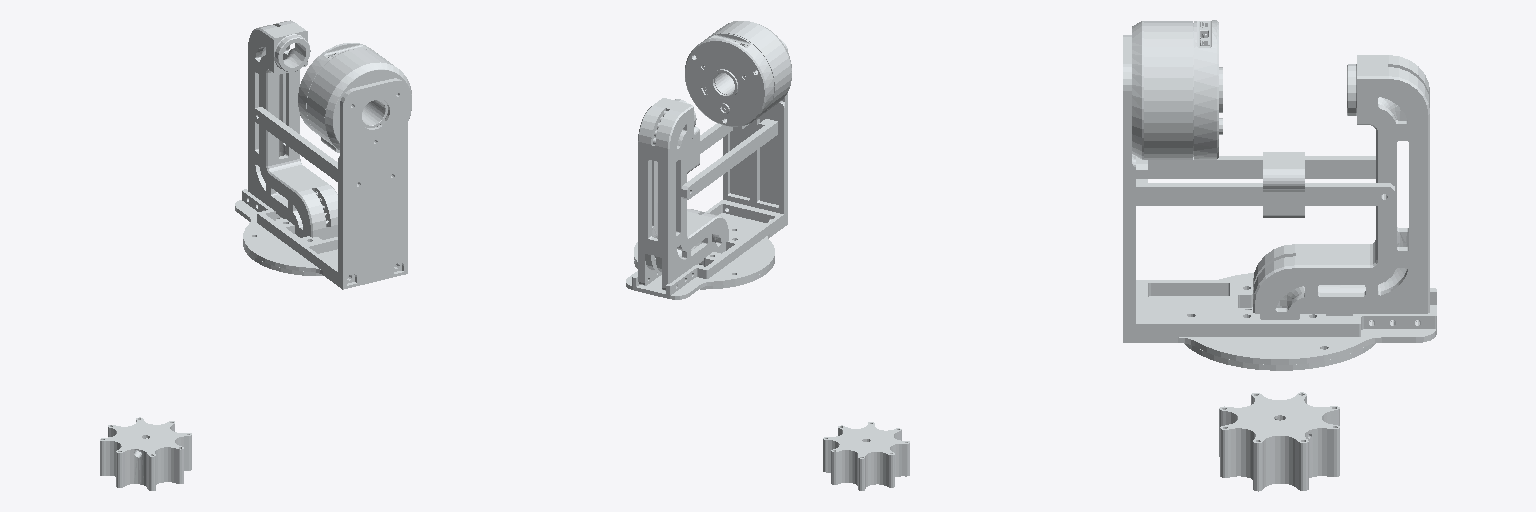
robot.urdf — robot_urdf_infantry_swerve:
<?xml version="1.0" encoding="utf-8"?>
<!-- This URDF was automatically created by SolidWorks to URDF Exporter! Originally created by [author] ([email redacted]) 
     Commit Version: 1.6.0-1-g15f4949  Build Version: 1.6.7594.29634
     For more information, please see http://wiki.ros.org/sw_urdf_exporter -->
<robot
  name="robot_urdf_infantry_swerve">
  <link
    name="base_link">
    <inertial>
      <origin
        xyz="-0.0169183236639579 -0.000182915242454045 0.0690609306536668"
        rpy="0 0 0" />
      <mass
        value="10.1026393048158" />
      <inertia
        ixx="0.0180952613054106"
        ixy="1.08428457198038E-05"
        ixz="-0.000129043293291808"
        iyy="0.0189260916730513"
        iyz="-4.14000287710874E-06"
        izz="0.0306916725800459" />
    </inertial>
    <visual>
      <origin
        xyz="0 0 0"
        rpy="0 0 0" />
      <geometry>
        <mesh
          filename="package://robot_urdf_infantry_swerve/meshes/base_link.STL" />
      </geometry>
      <material
        name="">
        <color
          rgba="0.898039215686275 0.917647058823529 0.929411764705882 1" />
      </material>
    </visual>
    <collision>
      <origin
        xyz="0 0 0"
        rpy="0 0 0" />
      <geometry>
        <mesh
          filename="package://robot_urdf_infantry_swerve/meshes/base_link.STL" />
      </geometry>
    </collision>
  </link>
  <link
    name="left_forward_wheel_link">
    <inertial>
      <origin
        xyz="-5.60582053621972E-05 0.0195312422532899 -2.66231869774855E-05"
        rpy="0 0 0" />
      <mass
        value="0.20196610038796" />
      <inertia
        ixx="9.03609954075999E-05"
        ixy="-5.05842383427067E-09"
        ixz="2.91601273838805E-07"
        iyy="0.000159661557919175"
        iyz="7.41953648211965E-09"
        izz="9.03046734261075E-05" />
    </inertial>
    <visual>
      <origin
        xyz="0 0 0"
        rpy="0 0 0" />
      <geometry>
        <mesh
          filename="package://robot_urdf_infantry_swerve/meshes/left_forward_wheel_link.STL" />
      </geometry>
      <material
        name="">
        <color
          rgba="0.792156862745098 0.819607843137255 0.933333333333333 1" />
      </material>
    </visual>
    <collision>
      <origin
        xyz="0 0 0"
        rpy="0 0 0" />
      <geometry>
        <mesh
          filename="package://robot_urdf_infantry_swerve/meshes/left_forward_wheel_link.STL" />
      </geometry>
    </collision>
  </link>
  <joint
    name="base_to_left_forward_wheel_link"
    type="continuous">
    <origin
      xyz="0.1867 0.1991 0.0048"
      rpy="0 0 0" />
    <parent
      link="base_link" />
    <child
      link="left_forward_wheel_link" />
    <axis
      xyz="0 -0.999999999721235 -2.34360814689745E-05" />
    <limit
      effort="380"
      velocity="9999" />
    <safety_controller
      soft_upper="0"
      soft_lower="0"
      k_position="9999"
      k_velocity="9999" />
  </joint>
  <link
    name="right_forward_wheel_link">
    <inertial>
      <origin
        xyz="4.79525151471094E-05 -0.0195312421057282 -3.93945822344966E-05"
        rpy="0 0 0" />
      <mass
        value="0.201966103588379" />
      <inertia
        ixx="9.022074642581E-05"
        ixy="-6.70279305444002E-09"
        ixz="-2.70679291868689E-07"
        iyy="0.000159661390017855"
        iyz="-5.96387817570014E-09"
        izz="9.0444745105792E-05" />
    </inertial>
    <visual>
      <origin
        xyz="0 0 0"
        rpy="0 0 0" />
      <geometry>
        <mesh
          filename="package://robot_urdf_infantry_swerve/meshes/right_forward_wheel_link.STL" />
      </geometry>
      <material
        name="">
        <color
          rgba="0.792156862745098 0.819607843137255 0.933333333333333 1" />
      </material>
    </visual>
    <collision>
      <origin
        xyz="0 0 0"
        rpy="0 0 0" />
      <geometry>
        <mesh
          filename="package://robot_urdf_infantry_swerve/meshes/right_forward_wheel_link.STL" />
      </geometry>
    </collision>
  </link>
  <joint
    name="base_to_right_forward_wheel_link"
    type="continuous">
    <origin
      xyz="0.1867 -0.1991 0.0048"
      rpy="0 0 0" />
    <parent
      link="base_link" />
    <child
      link="right_forward_wheel_link" />
    <axis
      xyz="0 0.999999999721235 -2.34360814692104E-05" />
    <limit
      effort="380"
      velocity="9999" />
    <safety_controller
      soft_upper="0"
      soft_lower="0"
      k_position="9999"
      k_velocity="9999" />
  </joint>
  <link
    name="left_backward_wheel_link">
    <inertial>
      <origin
        xyz="-4.7951E-05 0.019106 -3.9404E-05"
        rpy="0 0 0" />
      <mass
        value="0.20197" />
      <inertia
        ixx="9.0221E-05"
        ixy="-6.703E-09"
        ixz="2.7068E-07"
        iyy="0.00015966"
        iyz="5.9639E-09"
        izz="9.0445E-05" />
    </inertial>
    <visual>
      <origin
        xyz="0 0 0"
        rpy="0 0 0" />
      <geometry>
        <mesh
          filename="package://robot_urdf_infantry_swerve/meshes/left_backward_wheel_link.STL" />
      </geometry>
      <material
        name="">
        <color
          rgba="0.79216 0.81961 0.93333 1" />
      </material>
    </visual>
    <collision>
      <origin
        xyz="0 0 0"
        rpy="0 0 0" />
      <geometry>
        <mesh
          filename="package://robot_urdf_infantry_swerve/meshes/left_backward_wheel_link.STL" />
      </geometry>
    </collision>
  </link>
  <joint
    name="base_to_left_backward_wheel_link"
    type="continuous">
    <origin
      xyz="-0.1867 0.1991 0.0048"
      rpy="0 0 0" />
    <parent
      link="base_link" />
    <child
      link="left_backward_wheel_link" />
    <axis
      xyz="0 -1 -2.3436E-05" />
    <limit
      effort="380"
      velocity="9999" />
    <safety_controller
      soft_upper="0"
      soft_lower="0"
      k_position="9999"
      k_velocity="9999" />
  </joint>
  <link
    name="right_backward_wheel_link">
    <inertial>
      <origin
        xyz="5.6058595093611E-05 -0.0195312420324447 -2.66237671080203E-05"
        rpy="0 0 0" />
      <mass
        value="0.20196609976131" />
      <inertia
        ixx="9.03609966068449E-05"
        ixy="-5.05846293664766E-09"
        ixz="-2.9159803548901E-07"
        iyy="0.000159661557381687"
        iyz="-7.42010115197997E-09"
        izz="9.03046717754091E-05" />
    </inertial>
    <visual>
      <origin
        xyz="0 0 0"
        rpy="0 0 0" />
      <geometry>
        <mesh
          filename="package://robot_urdf_infantry_swerve/meshes/right_backward_wheel_link.STL" />
      </geometry>
      <material
        name="">
        <color
          rgba="0.792156862745098 0.819607843137255 0.933333333333333 1" />
      </material>
    </visual>
    <collision>
      <origin
        xyz="0 0 0"
        rpy="0 0 0" />
      <geometry>
        <mesh
          filename="package://robot_urdf_infantry_swerve/meshes/right_backward_wheel_link.STL" />
      </geometry>
    </collision>
  </link>
  <joint
    name="base_to_right_backward_wheel_link"
    type="continuous">
    <origin
      xyz="-0.1867 -0.1991 0.0048"
      rpy="0 0 0" />
    <parent
      link="base_link" />
    <child
      link="right_backward_wheel_link" />
    <axis
      xyz="0 1 -2.3436E-05" />
    <limit
      effort="380"
      velocity="9999" />
    <safety_controller
      soft_upper="0"
      soft_lower="0"
      k_position="9999"
      k_velocity="9999" />
  </joint>
  <link
    name="yaw_link">
    <inertial>
      <origin
        xyz="-0.018987908986973 -0.0143382651109724 0.0856734317063609"
        rpy="0 0 0" />
      <mass
        value="0.761860614709707" />
      <inertia
        ixx="0.000941047124947946"
        ixy="1.22503489679261E-08"
        ixz="-2.25308184640081E-07"
        iyy="0.00072445952814472"
        iyz="-8.3743957389752E-05"
        izz="0.000595495016456856" />
    </inertial>
    <visual>
      <origin
        xyz="0 0 0"
        rpy="0 0 0" />
      <geometry>
        <mesh
          filename="package://robot_urdf_infantry_swerve/meshes/yaw_link.STL" />
      </geometry>
      <material
        name="">
        <color
          rgba="0.898039215686275 0.917647058823529 0.929411764705882 1" />
      </material>
    </visual>
    <collision>
      <origin
        xyz="0 0 0"
        rpy="0 0 0" />
      <geometry>
        <mesh
          filename="package://robot_urdf_infantry_swerve/meshes/yaw_link.STL" />
      </geometry>
    </collision>
  </link>
  <joint
    name="base_to_yaw_link"
    type="continuous">
    <origin
      xyz="0.0192509770102757 0 0.151868140587076"
      rpy="0 0 0" />
    <parent
      link="base_link" />
    <child
      link="yaw_link" />
    <axis
      xyz="0 0 -1" />
    <limit
      effort="30"
      velocity="9999" />
    <safety_controller
      soft_upper="0"
      soft_lower="0"
      k_position="9999"
      k_velocity="9999" />
  </joint>
  <link
    name="pitch_link">
    <inertial>
      <origin
        xyz="0.0444973545133058 0.0521717462209072 0.0175897078396731"
        rpy="0 0 0" />
      <mass
        value="0.704098452838613" />
      <inertia
        ixx="0.000395429164724426"
        ixy="8.63718799161938E-06"
        ixz="-5.26064068677351E-06"
        iyy="0.000729854409347408"
        iyz="-6.44701544376519E-10"
        izz="0.000972651052857032" />
    </inertial>
    <visual>
      <origin
        xyz="0 0 0"
        rpy="0 0 0" />
      <geometry>
        <mesh
          filename="package://robot_urdf_infantry_swerve/meshes/pitch_link.STL" />
      </geometry>
      <material
        name="">
        <color
          rgba="1 1 1 1" />
      </material>
    </visual>
    <collision>
      <origin
        xyz="0 0 0"
        rpy="0 0 0" />
      <geometry>
        <mesh
          filename="package://robot_urdf_infantry_swerve/meshes/pitch_link.STL" />
      </geometry>
    </collision>
  </link>
  <joint
    name="yaw_to_pitch_link"
    type="revolute">
    <origin
      xyz="-0.0192509770102756 -0.0512 0.138131859412924"
      rpy="0 0 0" />
    <parent
      link="yaw_link" />
    <child
      link="pitch_link" />
    <axis
      xyz="0 -1 0" />
    <limit
      lower="-1.05"
      upper="1.5708"
      effort="30"
      velocity="9999" />
    <safety_controller
      soft_upper="1.5708"
      soft_lower="-1.05"
      k_position="9999"
      k_velocity="9999" />
  </joint>
  <link
    name="fire_link">
    <inertial>
      <origin
        xyz="3.0615E-05 3.1297E-05 -0.0069429"
        rpy="0 0 0" />
      <mass
        value="0.067053" />
      <inertia
        ixx="1.8885E-05"
        ixy="-7.341E-08"
        ixz="-4.1722E-08"
        iyy="1.8882E-05"
        iyz="-4.2611E-08"
        izz="3.0274E-05" />
    </inertial>
    <visual>
      <origin
        xyz="0 0 0"
        rpy="0 0 0" />
      <geometry>
        <mesh
          filename="package://robot_urdf_infantry_swerve/meshes/fire_link.STL" />
      </geometry>
      <material
        name="">
        <color
          rgba="0.89804 0.91765 0.92941 1" />
      </material>
    </visual>
    <collision>
      <origin
        xyz="0 0 0"
        rpy="0 0 0" />
      <geometry>
        <mesh
          filename="package://robot_urdf_infantry_swerve/meshes/fire_link.STL" />
      </geometry>
    </collision>
  </link>
  <joint
    name="base_to_fire_link"
    type="continuous">
    <origin
      xyz="-0.13188 4.8836E-05 0.051212"
      rpy="0 0 0" />
    <parent
      link="base_link" />
    <child
      link="fire_link" />
    <axis
      xyz="0 0 -1" />
    <limit
      effort="360"
      velocity="9999" />
    <safety_controller
      soft_upper="0"
      soft_lower="0"
      k_position="9999"
      k_velocity="9999" />
  </joint>
</robot>

--- Facts derived from the render (not from the file) ---
Views: 3 orthographic renders of the robot side by side, from view 1: azimuth 30°, elevation 25°; view 2: azimuth 150°, elevation 25°; view 3: azimuth 270°, elevation 25°.
Robot: robot_urdf_infantry_swerve — 8 links, 7 joints (1 revolute, 6 continuous); root link base_link; default pose: all joints at 0.
Visible links, largest first — view 1: yaw_link, fire_link; view 2: yaw_link, fire_link; view 3: yaw_link, fire_link.
Boxes of the visible links, left/top/right/bottom form: yaw_link: left=235, top=20, right=411, bottom=289; fire_link: left=100, top=417, right=191, bottom=490; yaw_link: left=626, top=21, right=791, bottom=299; fire_link: left=823, top=422, right=909, bottom=490; yaw_link: left=1123, top=20, right=1436, bottom=370; fire_link: left=1219, top=392, right=1339, bottom=491.
Size in the robot's own frame: 0.2108 by 0.15 by 0.2935 metres.
2 mesh visuals loaded from 8 distinct referenced files (2 binary STL); not drawn: 6 (reference not matched to a file when rendering).